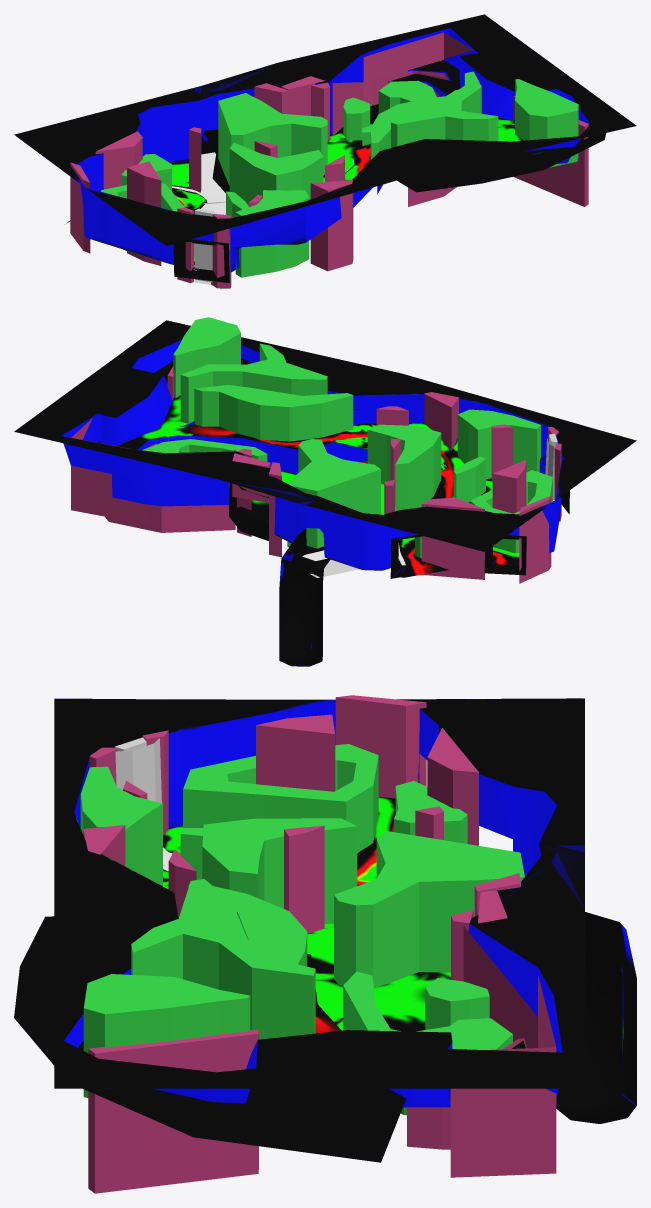
The model's file is spiders_domain_tb.glb.
The picture shows the model from 3 angles, top to bottom: view 1: azimuth 30°, elevation 25°; view 2: azimuth 150°, elevation 25°; view 3: azimuth 270°, elevation 25°; orthographic projection. The views are drawn at different scales.
Parts seen in each view (by area): view 1: trees, rocks, ground_01.015-col, ground_01.011-col, ground_01.011-col.002, ground_01-col, ground_01.012-col, ground_02-col, ground_01.003-col, ground_01.013-col, ground_01.005-col, ground_01.010-col (+4 smaller); view 2: trees, rocks, ground_01.015-col, ground_01.005-col, ground_01.011-col.002, ground_01-col, ground_01.011-col.003, ground_01.012-col, ground_01.011-col, ground_01.013-col, ground_01.008-col, ground_01.010-col (+5 smaller); view 3: trees, rocks, ground_01.015-col, ground_02-col, ground_01.011-col.002, ground_01-col, ground_01.012-col, ground_01.011-col.003, ground_01.011-col, ground_01.005-col, water_falls, ground_01.007-col (+2 smaller).
Boxes of the visible parts, left/top/right/bottom form: trees: left=101, top=71, right=578, bottom=277; rocks: left=70, top=32, right=588, bottom=288; ground_01.015-col: left=353, top=14, right=636, bottom=178; ground_01.011-col: left=77, top=94, right=218, bottom=263; ground_01.011-col.002: left=14, top=86, right=217, bottom=222; ground_01-col: left=202, top=14, right=483, bottom=176; ground_01.012-col: left=134, top=151, right=401, bottom=282; ground_02-col: left=397, top=117, right=606, bottom=192; ground_01.003-col: left=229, top=167, right=361, bottom=248; ground_01.013-col: left=409, top=28, right=589, bottom=162; ground_01.005-col: left=328, top=28, right=578, bottom=163; ground_01.010-col: left=66, top=160, right=229, bottom=283; trees: left=142, top=317, right=552, bottom=558; rocks: left=71, top=366, right=561, bottom=583; ground_01.015-col: left=14, top=320, right=401, bottom=449; ground_01.005-col: left=63, top=344, right=353, bottom=506; ground_01.011-col.002: left=297, top=457, right=603, bottom=578; ground_01-col: left=16, top=432, right=305, bottom=540; ground_01.011-col.003: left=279, top=528, right=323, bottom=666; ground_01.012-col: left=354, top=373, right=636, bottom=513; ground_01.011-col: left=306, top=497, right=561, bottom=577; ground_01.013-col: left=61, top=340, right=181, bottom=445; ground_01.008-col: left=353, top=394, right=486, bottom=423; ground_01.010-col: left=391, top=537, right=525, bottom=577; trees: left=80, top=744, right=524, bottom=1115; rocks: left=83, top=695, right=556, bottom=1193; ground_01.015-col: left=54, top=881, right=584, bottom=1088; ground_02-col: left=14, top=916, right=406, bottom=1162; ground_01.011-col.002: left=168, top=698, right=584, bottom=855; ground_01-col: left=315, top=852, right=584, bottom=1088; ground_01.012-col: left=54, top=698, right=179, bottom=892; ground_01.011-col.003: left=556, top=912, right=636, bottom=1123; ground_01.011-col: left=179, top=700, right=556, bottom=876; ground_01.005-col: left=64, top=923, right=562, bottom=1107; water_falls: left=115, top=738, right=161, bottom=802; ground_01.007-col: left=163, top=869, right=450, bottom=984.
Size of the model in its own units: 644 by 221 by 412.
Materials: 4 (1 with a texture image).
